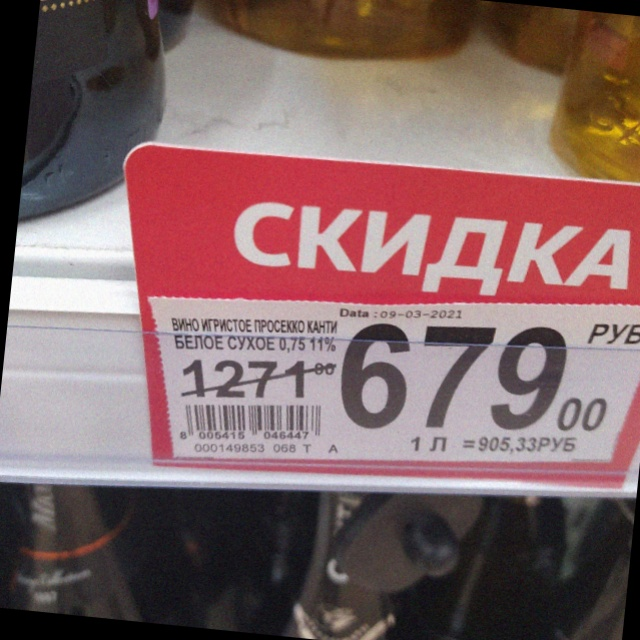barcode: (175, 400, 325, 442)
name: (167, 315, 341, 356)
price: (341, 324, 609, 435)
price_tag: (144, 296, 640, 462)
